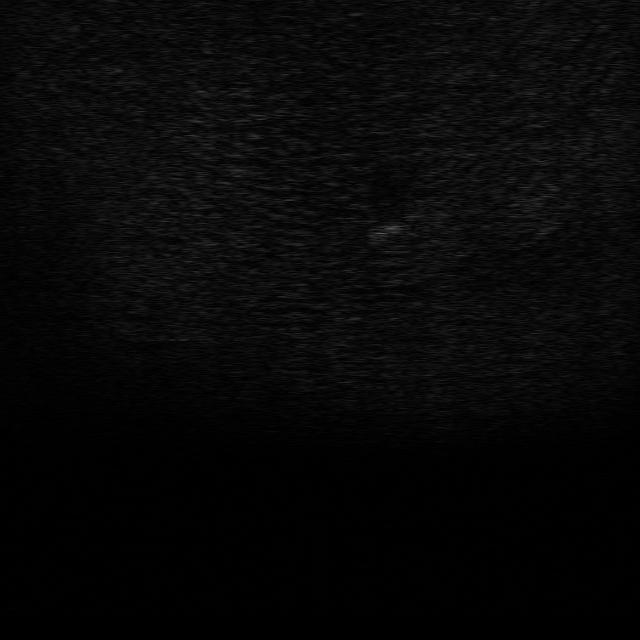plane: (363, 210, 422, 246)
